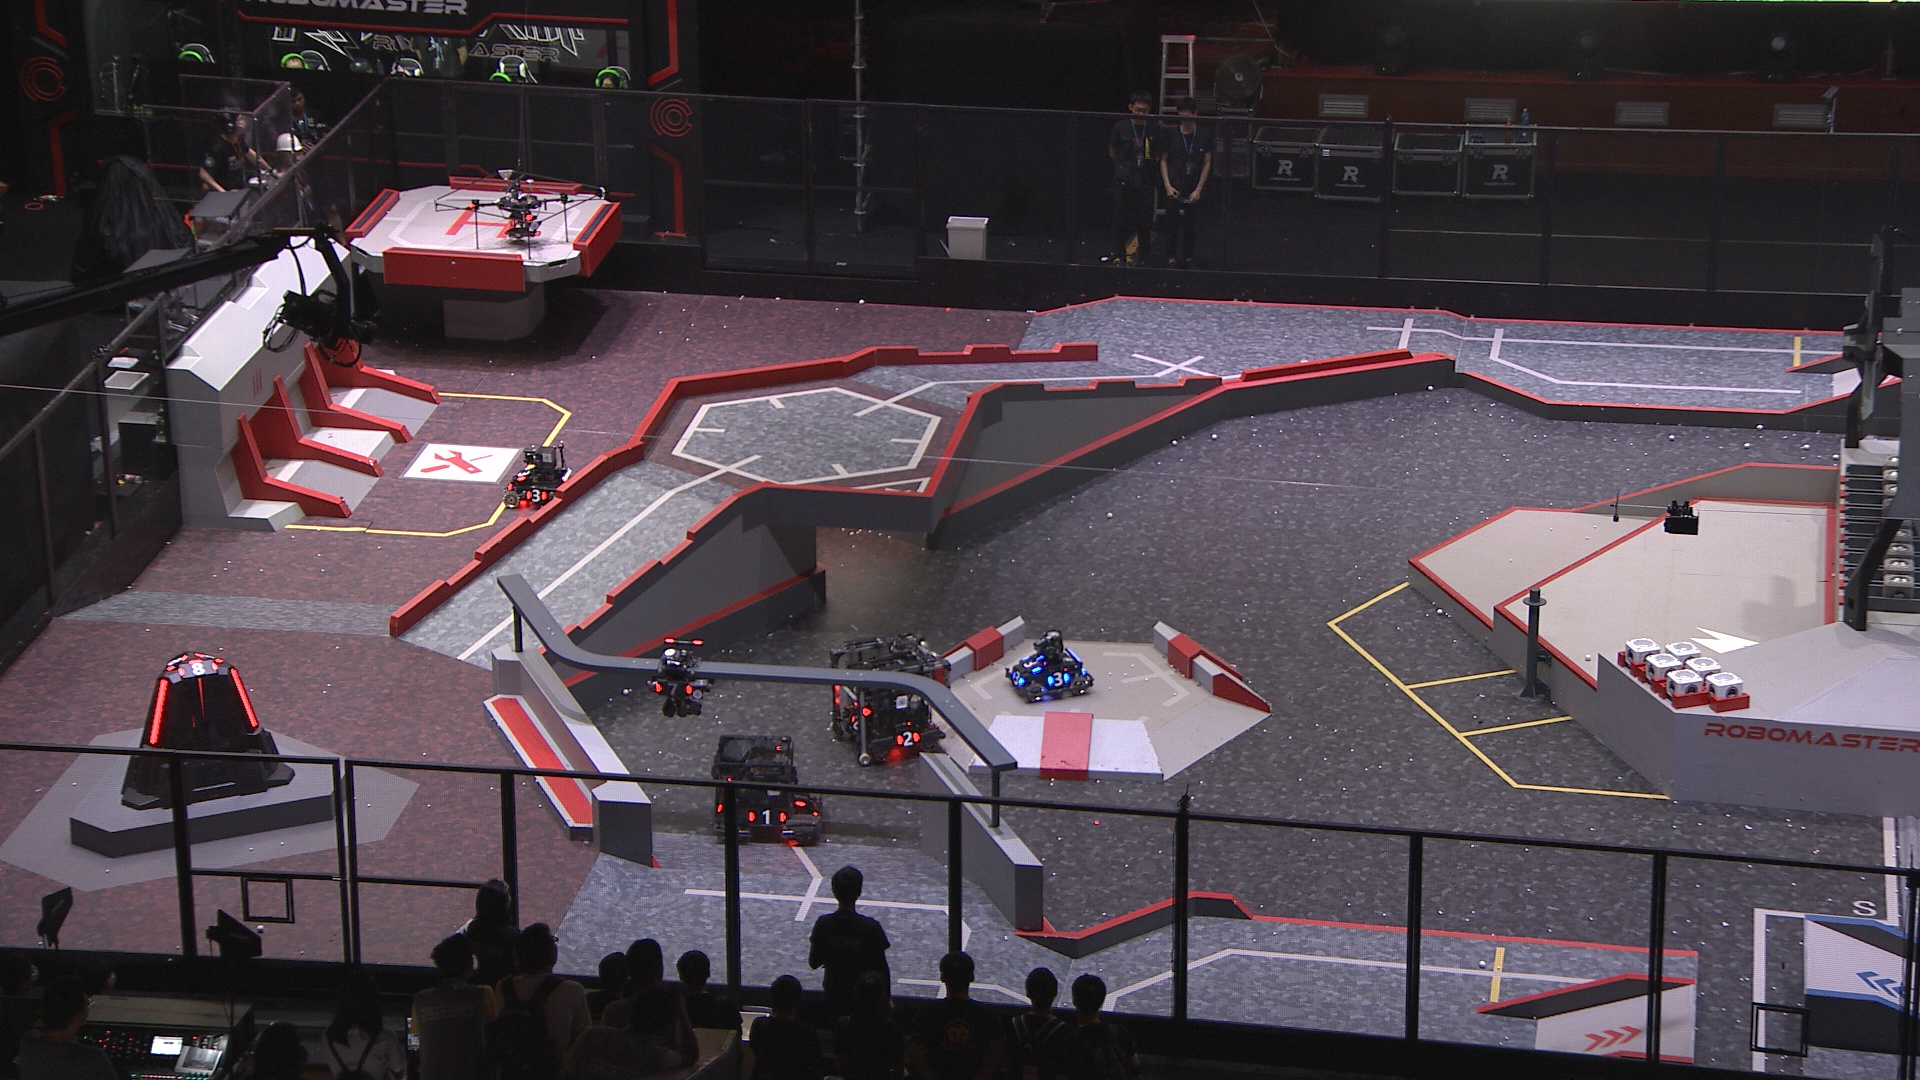armor: (229, 665, 258, 728), (145, 675, 167, 745), (746, 808, 785, 828), (185, 659, 220, 676), (655, 680, 688, 695), (196, 675, 206, 725), (1007, 666, 1026, 690), (167, 650, 190, 669), (895, 731, 920, 746), (526, 489, 550, 504), (1046, 673, 1069, 687), (1022, 655, 1040, 674), (516, 465, 533, 484), (795, 789, 808, 811), (845, 712, 860, 731)
base: (120, 646, 295, 811)
car: (828, 636, 951, 760), (707, 731, 835, 849), (1004, 632, 1096, 703), (502, 436, 583, 514)
watcher: (655, 637, 716, 719)
